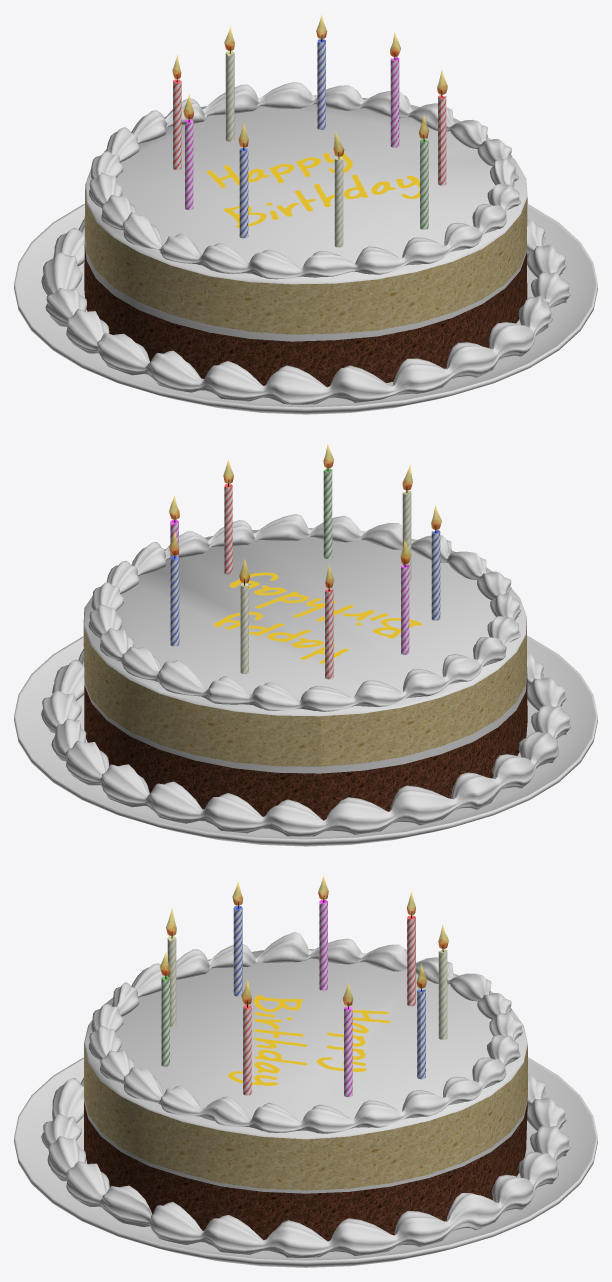
Rendered from cake-blend30.draco.glb.
3 views of the same model, one above another, from view 1: azimuth 30°, elevation 25°; view 2: azimuth 150°, elevation 25°; view 3: azimuth 270°, elevation 25° (orthographic).
Parts seen in each view (by area): view 1: cake_Cylin, cream_Circ, yellow_cre, dish_Cylin, Plane, candle3_Cy, candle6_Cy, candle7_Cy, candle_Cyl, candle2_Cy, candle5_Cy, candle4_Cy (+2 smaller); view 2: cake_Cylin, cream_Circ, yellow_cre, dish_Cylin, Plane, candle2_Cy, candle8_Cy, candle6_Cy, candle9_Cy, candle3_Cy, candle5_Cy, candle4_Cy (+1 smaller); view 3: cake_Cylin, cream_Circ, yellow_cre, dish_Cylin, Plane, candle6_Cy, candle3_Cy, candle4_Cy, candle5_Cy, candle8_Cy, candle9_Cy, candle_Cyl (+2 smaller).
Part boxes in pixels (x1,y1,x2,y2): cake_Cylin: (84, 95, 527, 387); cream_Circ: (41, 219, 570, 404); yellow_cre: (89, 82, 520, 279); dish_Cylin: (14, 204, 597, 414); Plane: (206, 151, 419, 227); candle3_Cy: (225, 51, 234, 141); candle6_Cy: (239, 148, 248, 238); candle7_Cy: (334, 157, 343, 247); candle_Cyl: (390, 57, 399, 147); candle2_Cy: (317, 39, 325, 129); candle5_Cy: (185, 119, 193, 209); candle4_Cy: (173, 79, 181, 169); cake_Cylin: (83, 528, 527, 820); cream_Circ: (41, 649, 571, 836); yellow_cre: (88, 514, 521, 711); dish_Cylin: (14, 636, 597, 846); Plane: (213, 572, 422, 663); candle2_Cy: (170, 555, 179, 646); candle8_Cy: (323, 468, 332, 558); candle6_Cy: (431, 530, 440, 620); candle9_Cy: (224, 483, 232, 574); candle3_Cy: (240, 583, 248, 673); candle5_Cy: (401, 564, 409, 654); candle4_Cy: (325, 589, 333, 679); cake_Cylin: (84, 949, 527, 1241); cream_Circ: (41, 1074, 570, 1257); yellow_cre: (88, 932, 522, 1133); dish_Cylin: (14, 1057, 597, 1267); Plane: (227, 995, 390, 1085); candle6_Cy: (233, 905, 242, 996); candle3_Cy: (438, 949, 447, 1039); candle4_Cy: (407, 915, 415, 1006); candle5_Cy: (319, 900, 327, 990); candle8_Cy: (161, 976, 169, 1066); candle9_Cy: (243, 1005, 251, 1095); candle_Cyl: (344, 1006, 352, 1097).
Bounding box in the file's own units: 0.698 × 0.3088 × 0.698.
7 materials, 5 textured.
